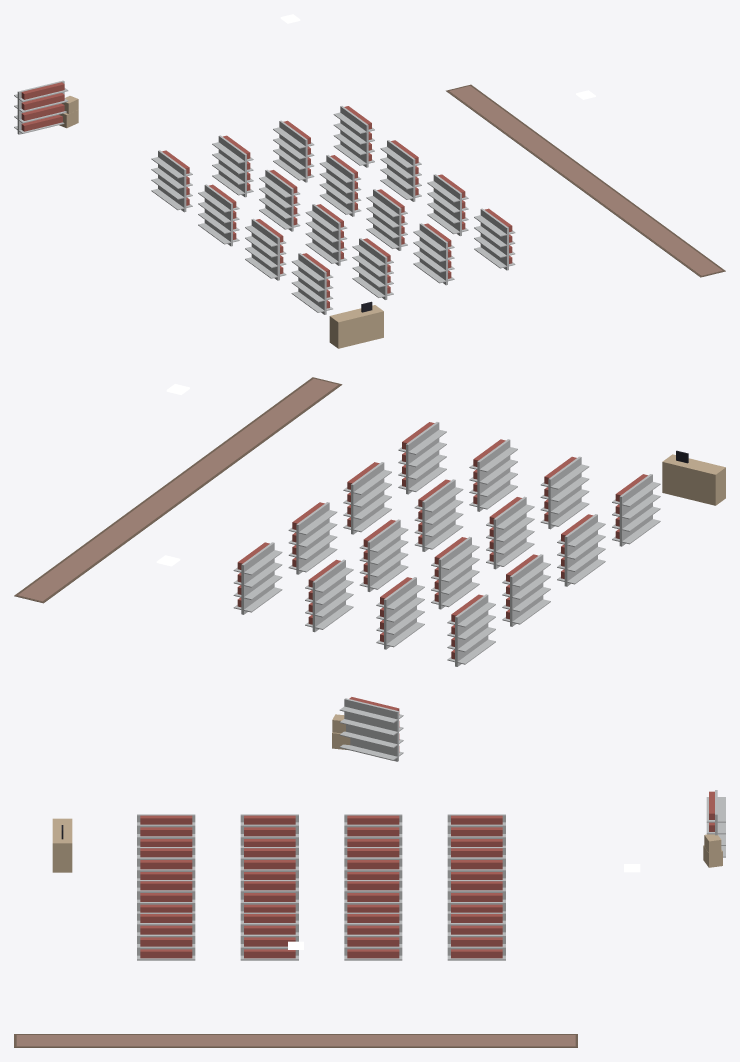
File: fine-s0.glb
3 views of the same model, one above another, from view 1: azimuth 30°, elevation 25°; view 2: azimuth 150°, elevation 25°; view 3: azimuth 270°, elevation 25° (orthographic). The views are drawn at different scales.
Visible parts, largest first — view 1: soft-s0, shelving.000, shop-counter.000, shelf.011, shelf.014, shelf.001, shelf.005, shelf.015, shelf.004, shelf.002, shelf.006, shelf.003 (+7 smaller); view 2: soft-s0, shelving.000, shop-counter.000, shelf.007, shelf.005, shelf.009, shelf.010, shelf.008, shelf.012, shelf.003, shelf.006, shelf.011 (+7 smaller); view 3: soft-s0, shelf.012, shelf.013, shelf.015, shelf.014, shelf.000, shelf.001, shelf.002, shelf.003, shelf.004, shelf.005, shelf.006 (+8 smaller).
Part boxes in pixels (box(x1,y1,x2,y2)): soft-s0: box(446, 84, 725, 277); shelving.000: box(14, 80, 68, 134); shop-counter.000: box(329, 301, 383, 348); shelf.011: box(413, 223, 454, 285); shelf.014: box(427, 174, 468, 236); shelf.001: box(198, 184, 239, 246); shelf.005: box(259, 169, 300, 231); shelf.015: box(474, 208, 515, 270); shelf.004: box(212, 135, 253, 197); shelf.002: box(245, 218, 286, 280); shelf.006: box(305, 204, 347, 265); shelf.003: box(291, 253, 333, 314); soft-s0: box(14, 377, 342, 603); shelving.000: box(339, 697, 403, 761); shop-counter.000: box(662, 450, 725, 505); shelf.007: box(540, 456, 589, 529); shelf.005: box(431, 536, 479, 609); shelf.009: box(359, 519, 408, 591); shelf.010: box(414, 479, 463, 551); shelf.008: box(305, 559, 353, 632); shelf.012: box(233, 542, 282, 614); shelf.003: box(612, 474, 660, 546); shelf.006: box(486, 496, 534, 569); shelf.011: box(469, 439, 517, 511); soft-s0: box(14, 1034, 577, 1047); shelf.012: box(447, 912, 505, 960); shelf.013: box(344, 912, 402, 960); shelf.015: box(137, 912, 195, 960); shelf.014: box(240, 912, 298, 960); shelf.000: box(447, 814, 505, 846); shelf.001: box(344, 814, 402, 846); shelf.002: box(240, 814, 298, 846); shelf.003: box(137, 814, 195, 846); shelf.004: box(447, 847, 505, 879); shelf.005: box(344, 847, 402, 879); shelf.006: box(240, 847, 298, 879).
Size of the model in its own units: 15.42 by 3.27 by 22.01.
